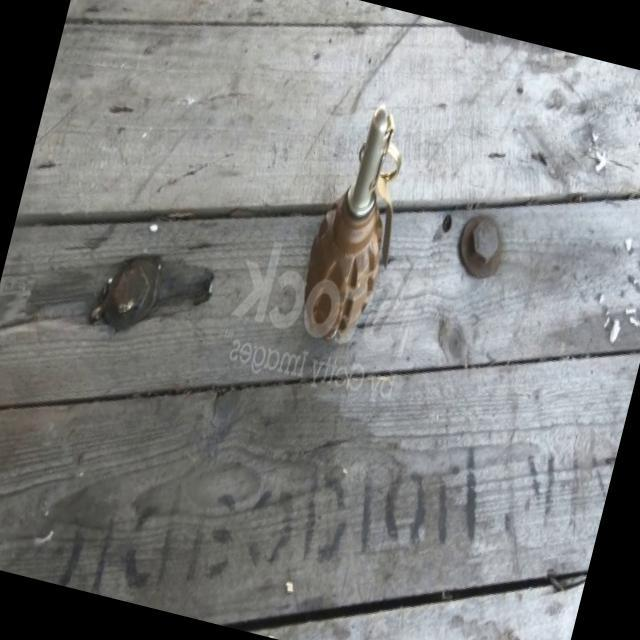grenade: (291, 103, 424, 343)
